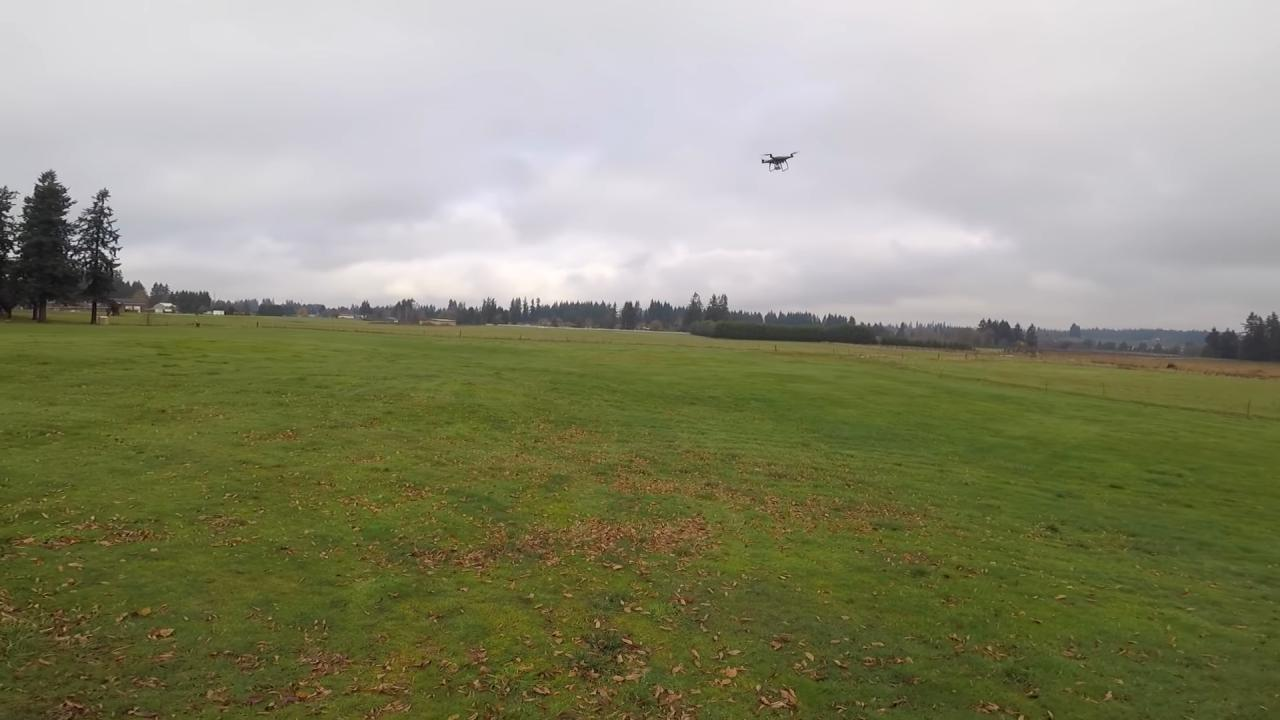Drone: (751, 143, 801, 184)
